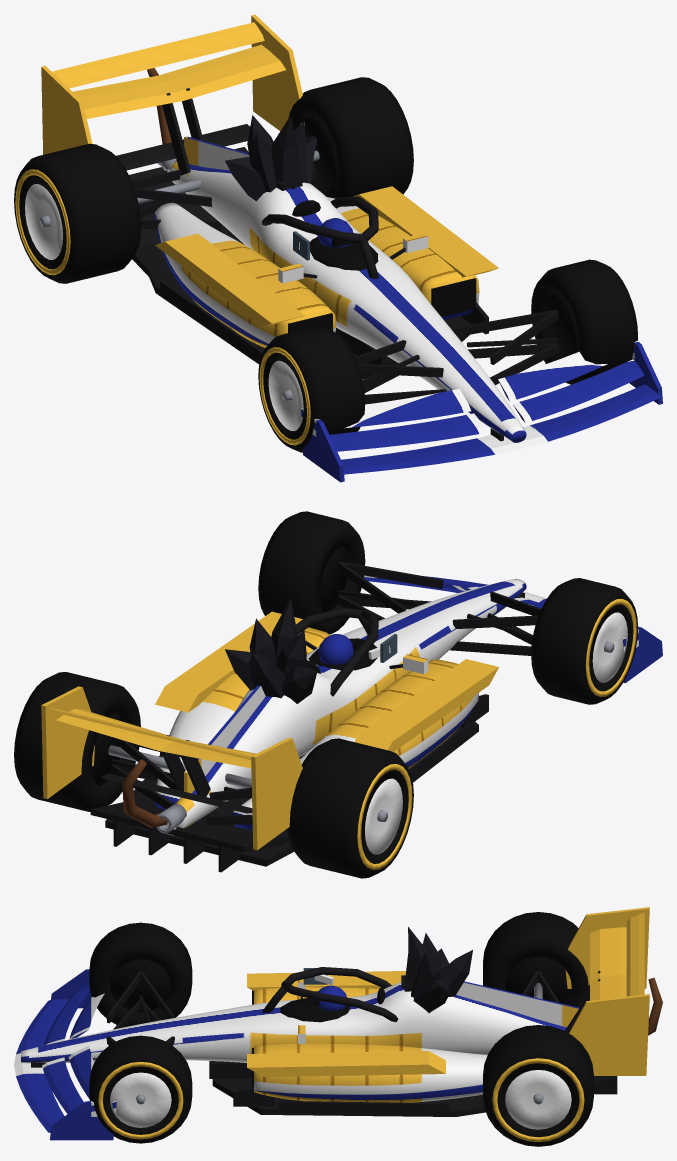
The model's file is warrior_b.fbx.
The picture shows the model from 3 angles, top to bottom: view 1: azimuth 30°, elevation 25°; view 2: azimuth 150°, elevation 25°; view 3: azimuth 270°, elevation 25°; orthographic projection. The views are drawn at different scales.
Parts seen in each view (by area): view 1: Body, Trim, Wheel_RL, Acc, Wheel_RR, Wheel_FL, Wheel_FR; view 2: Body, Trim, Acc, Wheel_RL, Wheel_FL, Wheel_FR, Wheel_RR; view 3: Body, Trim, Wheel_RR, Acc, Wheel_FR, Wheel_FL, Wheel_RL.
Boxes of the visible parts, x1=… form: Body: x1=41, y1=14, x2=662, y2=482; Trim: x1=116, y1=88, x2=558, y2=441; Wheel_RL: x1=14, y1=143, x2=140, y2=283; Acc: x1=147, y1=68, x2=498, y2=326; Wheel_RR: x1=288, y1=77, x2=413, y2=198; Wheel_FL: x1=258, y1=326, x2=365, y2=452; Wheel_FR: x1=531, y1=259, x2=637, y2=384; Body: x1=41, y1=575, x2=662, y2=850; Trim: x1=90, y1=561, x2=540, y2=872; Acc: x1=122, y1=598, x2=498, y2=827; Wheel_RL: x1=287, y1=738, x2=413, y2=878; Wheel_FL: x1=531, y1=578, x2=637, y2=704; Wheel_FR: x1=258, y1=511, x2=365, y2=634; Wheel_RR: x1=14, y1=672, x2=140, y2=811; Body: x1=14, y1=907, x2=649, y2=1140; Trim: x1=31, y1=967, x2=617, y2=1116; Wheel_RR: x1=483, y1=1025, x2=593, y2=1146; Acc: x1=247, y1=927, x2=662, y2=1076; Wheel_FR: x1=89, y1=1035, x2=192, y2=1143; Wheel_FL: x1=89, y1=922, x2=192, y2=1027; Wheel_RL: x1=483, y1=912, x2=588, y2=1006.
Size of the model in its own units: 9.81 by 4.93 by 18.93.
Materials: 5 (1 with a texture image).
